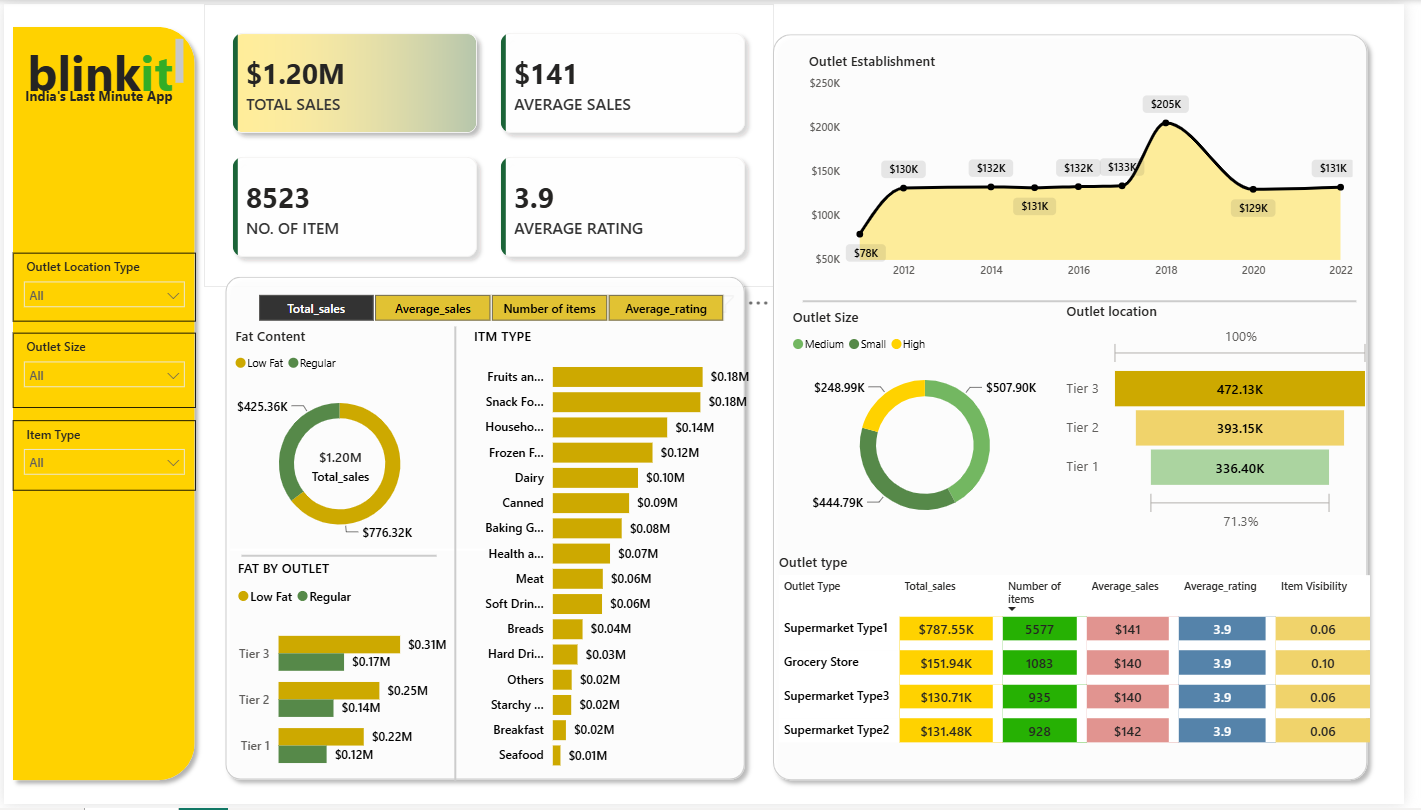

The page's visual inventory and layout, read from the dashboard file:
{"tool":"powerbi","page":{"name":"Page 1","canvas":[1400,800],"ordinal":0},"visuals":[{"type":"shape","box":[0,13.5,199.6,771.4],"z":0},{"type":"textbox","box":[16.5,30,168.1,63],"z":1000},{"type":"textbox","box":[16.5,78,210.1,30],"z":2000},{"type":"cardVisual","fields":{"Data":["BlinkIT Grocery Data.Total_sales","BlinkIT Grocery Data.Average_sales","BlinkIT Grocery Data.Number of items","BlinkIT Grocery Data.Average_rating"]},"box":[199.6,0,570.3,283.7],"z":3000},{"type":"shape","box":[213.1,264.2,537.3,520.8],"z":4000},{"type":"donutChart","title":"Fat Content","fields":{"Y":["BlinkIT Grocery Data.Total_sales"],"Category":["BlinkIT Grocery Data.Item Fat Content"]},"box":[226.6,322.7,219.1,229.6],"z":5000},{"type":"slicer","fields":{"Values":["Metrics.Metrics"]},"box":[228.1,283.7,514.8,39],"z":6000},{"type":"cardVisual","fields":{"Data":["BlinkIT Grocery Data.Total_sales"]},"box":[274.7,423.2,123.1,76.5],"z":7000},{"type":"clusteredBarChart","title":"FAT BY OUTLET","fields":{"Y":["BlinkIT Grocery Data.Total_sales"],"Category":["BlinkIT Grocery Data.Outlet Location Type"],"Series":["BlinkIT Grocery Data.Item Fat Content"]},"box":[228.1,555.3,219.1,229.6],"z":8000},{"type":"shape","box":[226.6,538.8,255.1,13.5],"z":9000},{"type":"shape","box":[237.1,549.3,195.1,6],"z":10000},{"type":"barChart","title":"ITM TYPE","fields":{"Y":["BlinkIT Grocery Data.Total_sales"],"Category":["BlinkIT Grocery Data.Item Type"]},"box":[465.1,323.1,285.5,454.4],"z":11000},{"type":"shape","box":[759.4,21,612.4,763.9],"z":12000},{"type":"lineChart","title":"Outlet Establishment","fields":{"Category":["BlinkIT Grocery Data.Outlet Establishment Year"],"Y":["BlinkIT Grocery Data.Total_sales"]},"box":[800,48,553.8,235.6],"z":13000},{"type":"shape","box":[354.2,322.7,195.1,454.8],"z":14000},{"type":"shape","box":[798.5,291.2,553.8,12],"z":15000},{"type":"donutChart","title":"Outlet Size","fields":{"Category":["BlinkIT Grocery Data.Outlet Size"],"Y":["BlinkIT Grocery Data.Total_sales"]},"box":[783.5,303.2,274.7,229.6],"z":16000},{"type":"funnel","title":"Outlet location","fields":{"Y":["Sum(BlinkIT Grocery Data.Sales)"],"Category":["BlinkIT Grocery Data.Outlet Location Type"]},"box":[1058.1,297.2,313.7,235.6],"z":17000},{"type":"pivotTable","title":"Outlet type","fields":{"Rows":["BlinkIT Grocery Data.Outlet Type"],"Values":["BlinkIT Grocery Data.Total_sales","BlinkIT Grocery Data.Number of items","BlinkIT Grocery Data.Average_sales","BlinkIT Grocery Data.Average_rating","Avg(BlinkIT Grocery Data.Item Visibility)"]},"box":[769.9,549.3,601.8,228.1],"z":18000},{"type":"slicer","fields":{"Values":["BlinkIT Grocery Data.Outlet Location Type"]},"box":[9,249.1,183.1,69],"z":19000},{"type":"slicer","fields":{"Values":["BlinkIT Grocery Data.Item Type"]},"box":[9,415.7,183.1,70.5],"z":19500},{"type":"slicer","fields":{"Values":["BlinkIT Grocery Data.Outlet Size"]},"box":[9,328.7,183.1,75],"z":20000}]}

Visuals, with their boxes in screenshot pixels (x1, y1, x2, y2), scaled from the page's 1400x800 canvas onto the 1421x810 screenshot:
shape: box(0, 14, 203, 795)
textbox: box(17, 30, 187, 94)
textbox: box(17, 79, 230, 109)
cardVisual - BlinkIT Grocery Data.Total_sales x BlinkIT Grocery Data.Average_sales: box(203, 0, 781, 287)
shape: box(216, 268, 762, 795)
"Fat Content" donutChart: box(230, 327, 452, 559)
slicer - Metrics.Metrics: box(232, 287, 754, 327)
cardVisual - BlinkIT Grocery Data.Total_sales: box(279, 428, 404, 506)
"FAT BY OUTLET" clusteredBarChart: box(232, 562, 454, 795)
shape: box(230, 546, 489, 559)
shape: box(241, 556, 439, 562)
"ITM TYPE" barChart: box(472, 327, 762, 787)
shape: box(771, 21, 1392, 795)
"Outlet Establishment" lineChart: box(812, 49, 1374, 287)
shape: box(360, 327, 558, 787)
shape: box(810, 295, 1373, 307)
"Outlet Size" donutChart: box(795, 307, 1074, 539)
"Outlet location" funnel: box(1074, 301, 1392, 539)
"Outlet type" pivotTable: box(781, 556, 1392, 787)
slicer - BlinkIT Grocery Data.Outlet Location Type: box(9, 252, 195, 322)
slicer - BlinkIT Grocery Data.Item Type: box(9, 421, 195, 492)
slicer - BlinkIT Grocery Data.Outlet Size: box(9, 333, 195, 409)
